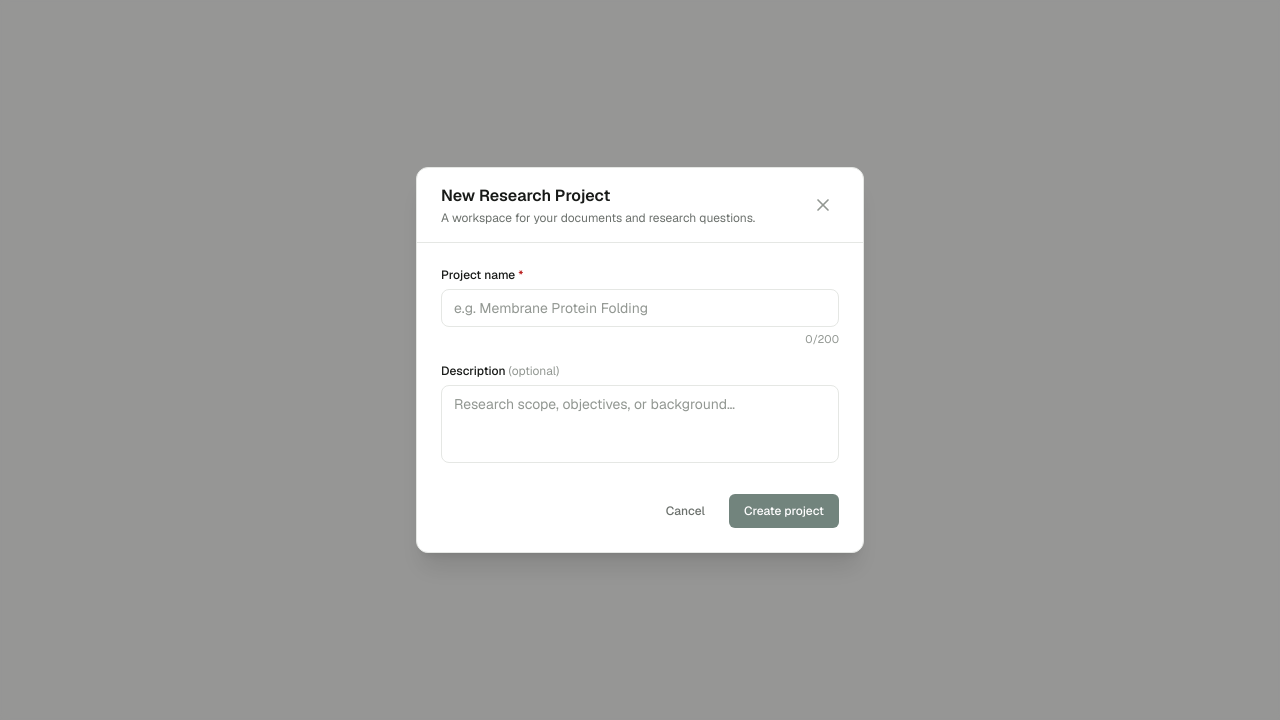
it: CreateProjectDialog › enables submit when valid name is entered
Type "My New Project" into the field labelled "Project name *" at (640, 308), box top-left (441, 289), bottom-right (839, 327)
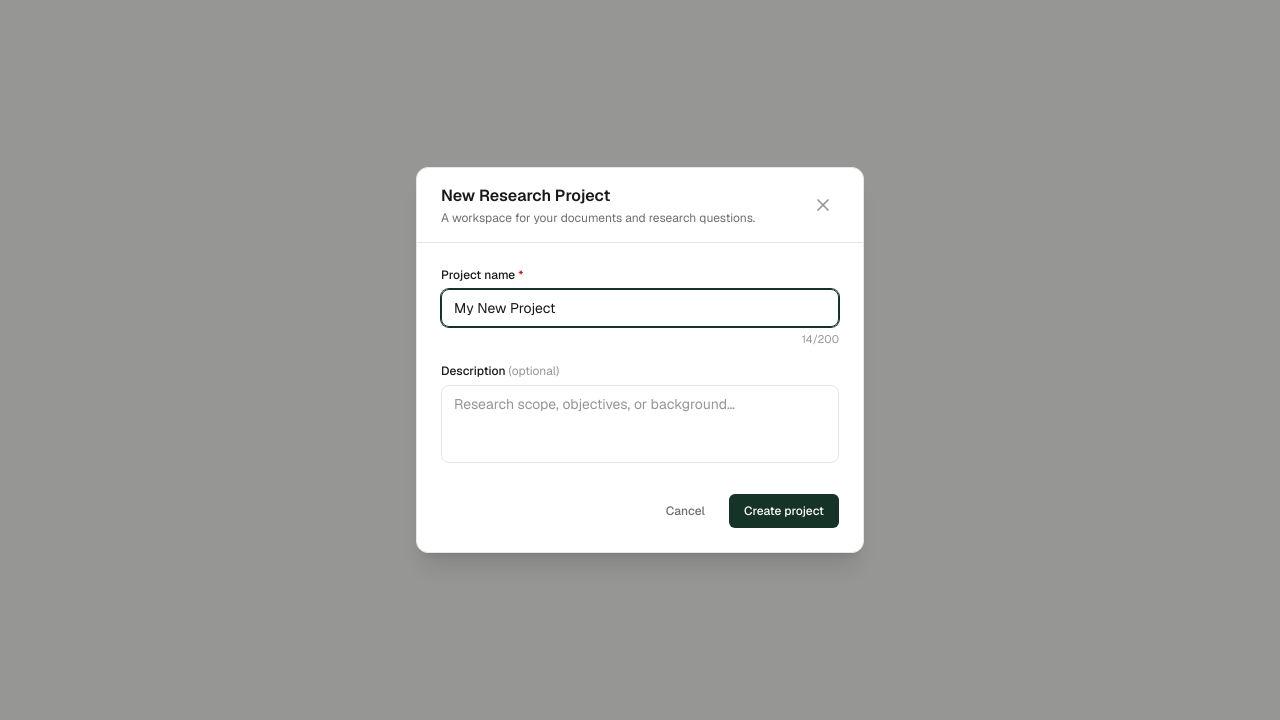
Expected: the button "Create project" is enabled, top-left (729, 494), bottom-right (839, 528)
